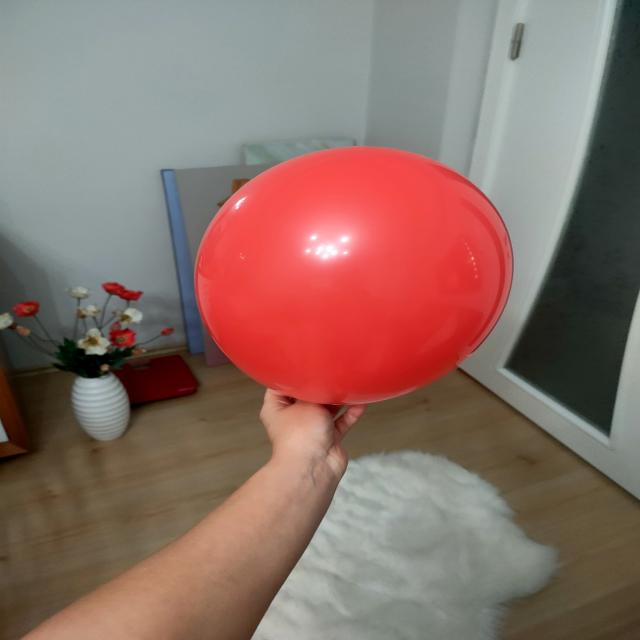red: (196, 148, 514, 407)
